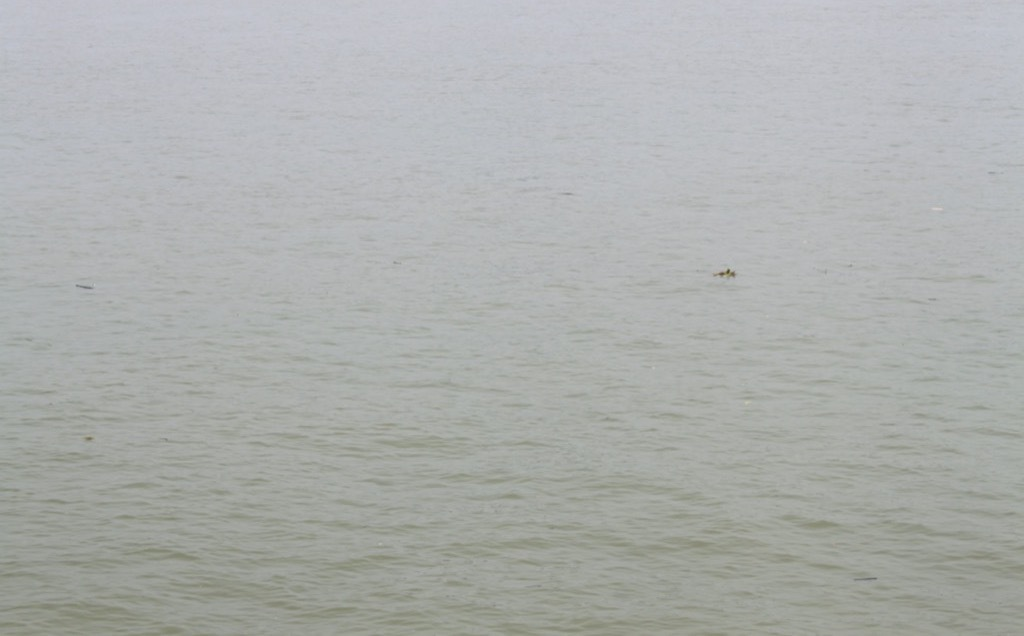organic: (700, 256, 747, 288), (70, 277, 104, 301), (80, 431, 99, 446)
plastic: (927, 202, 950, 214)
